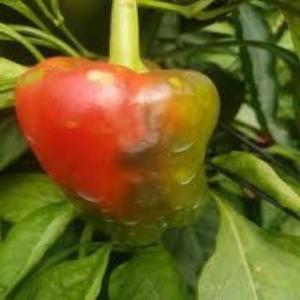bell_pepper: (20, 41, 238, 253)
